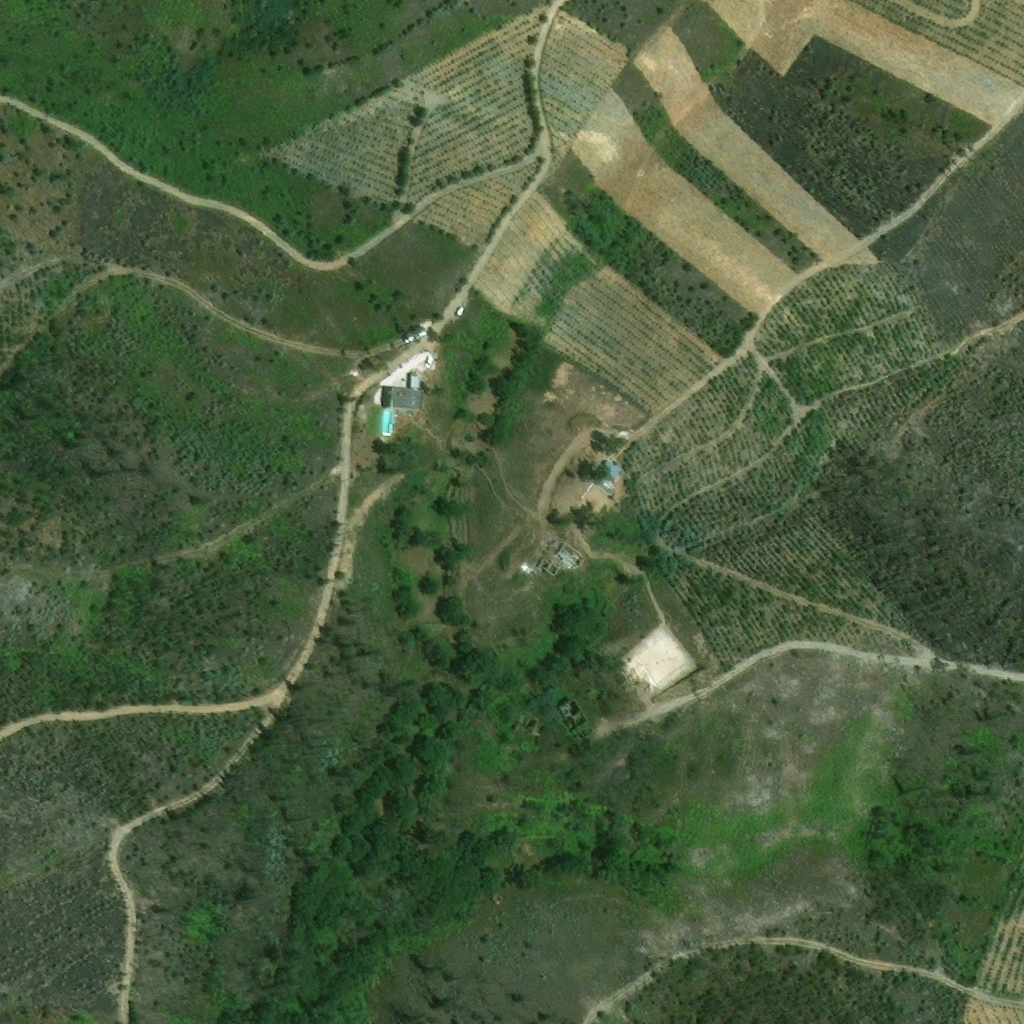0 no-damage: (592, 458, 625, 491), (382, 386, 424, 408), (407, 372, 423, 388)
